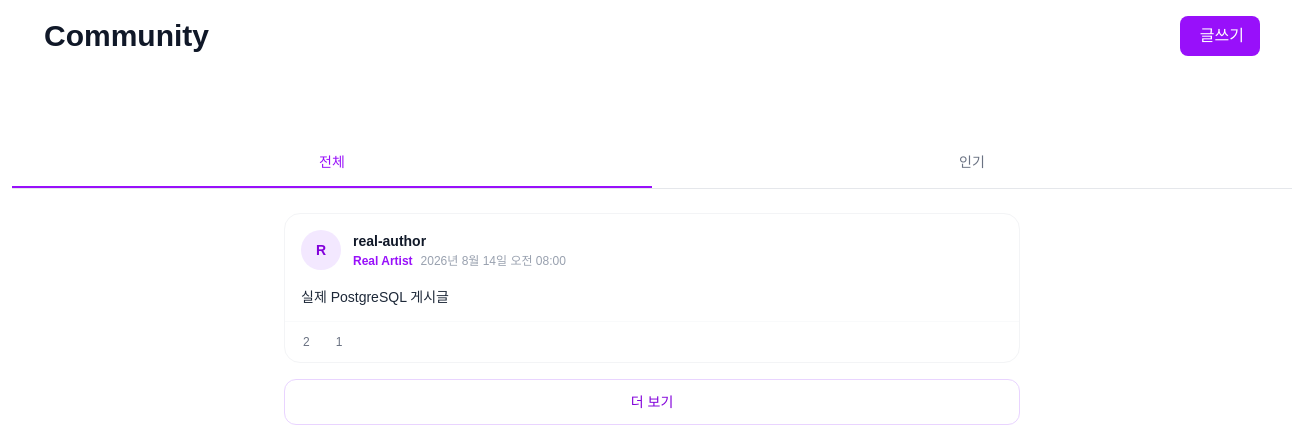
Test: CommunityPage › discards an old load-more response after the sort changes
Expected: the text "실제 PostgreSQL 게시글" is shown, [301,289,449,305]
Click the button "더 보기".
click(652, 402)  # box [284,379,1020,425]
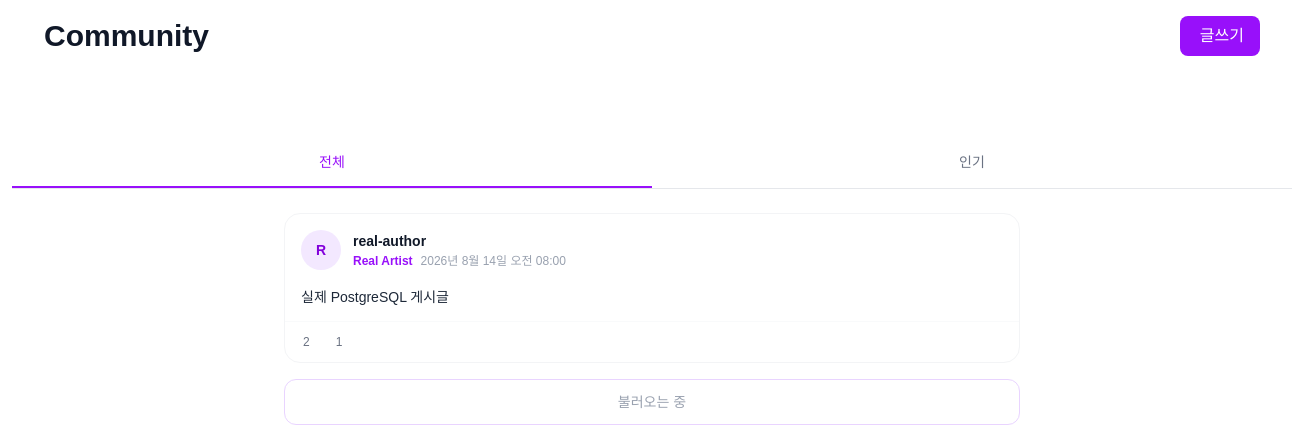
Click the button "인기".
click(972, 162)  # box [652,136,1292,188]
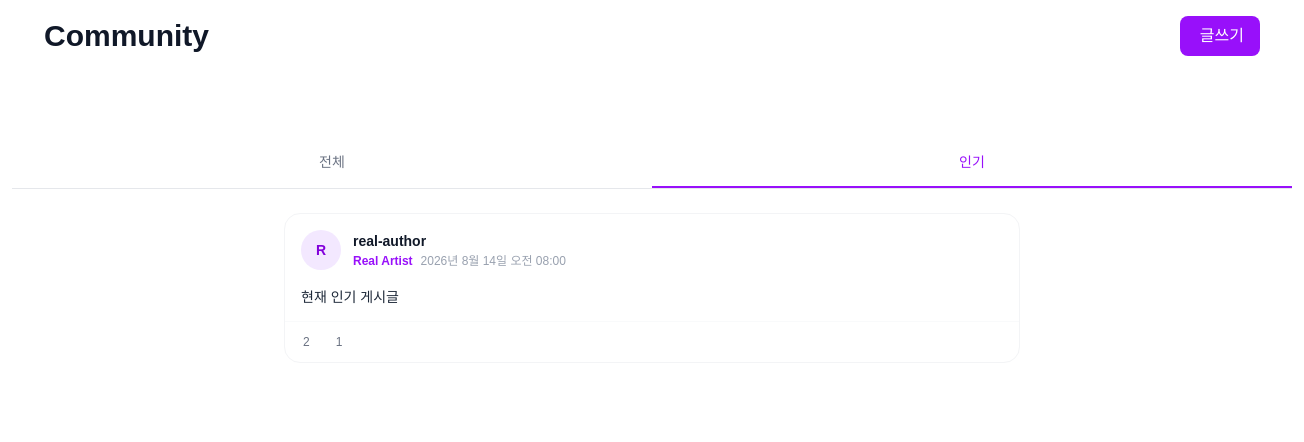
Now the text "현재 인기 게시글" is shown, box [301,289,399,305]
